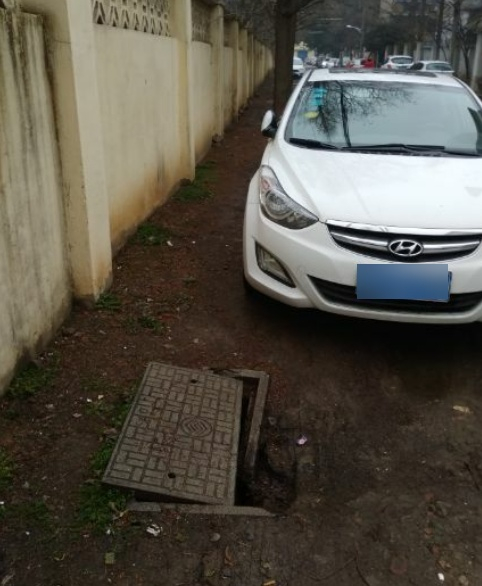uncovered: (99, 361, 270, 518)
